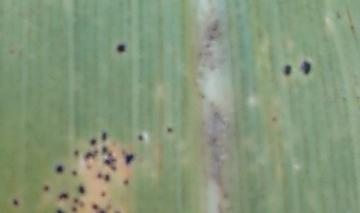tarspot: (302, 61, 311, 76), (85, 150, 98, 159), (114, 44, 127, 52), (126, 153, 134, 166), (284, 64, 292, 75), (270, 115, 278, 123), (100, 190, 107, 199), (58, 193, 68, 199), (57, 165, 64, 173), (104, 158, 112, 165), (137, 133, 143, 142), (336, 11, 342, 20), (166, 126, 173, 133), (79, 185, 85, 193), (56, 207, 64, 213), (102, 146, 108, 154), (342, 95, 348, 103), (112, 208, 121, 213), (350, 22, 354, 33), (123, 178, 129, 185), (71, 169, 78, 175), (72, 206, 78, 213), (79, 200, 85, 207), (86, 163, 93, 169), (44, 184, 49, 192), (89, 139, 95, 145), (74, 150, 80, 156), (92, 203, 98, 209), (102, 132, 107, 139), (13, 199, 18, 206), (98, 208, 105, 213), (111, 166, 118, 171), (112, 157, 117, 163), (74, 197, 78, 204), (105, 175, 110, 180), (97, 173, 102, 178)
